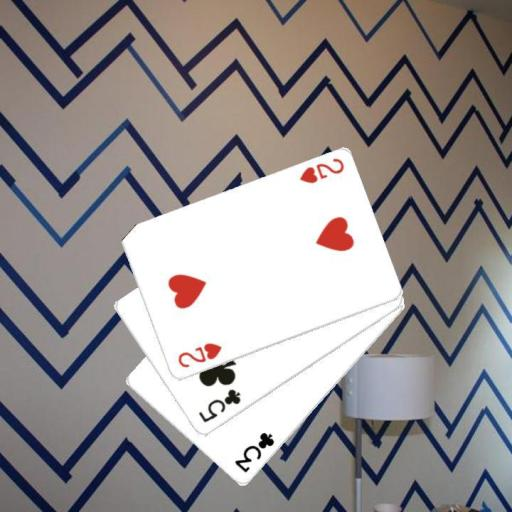2H: (296, 155, 346, 186), (175, 340, 224, 370)
3C: (231, 430, 276, 475)
5C: (195, 386, 242, 425)
